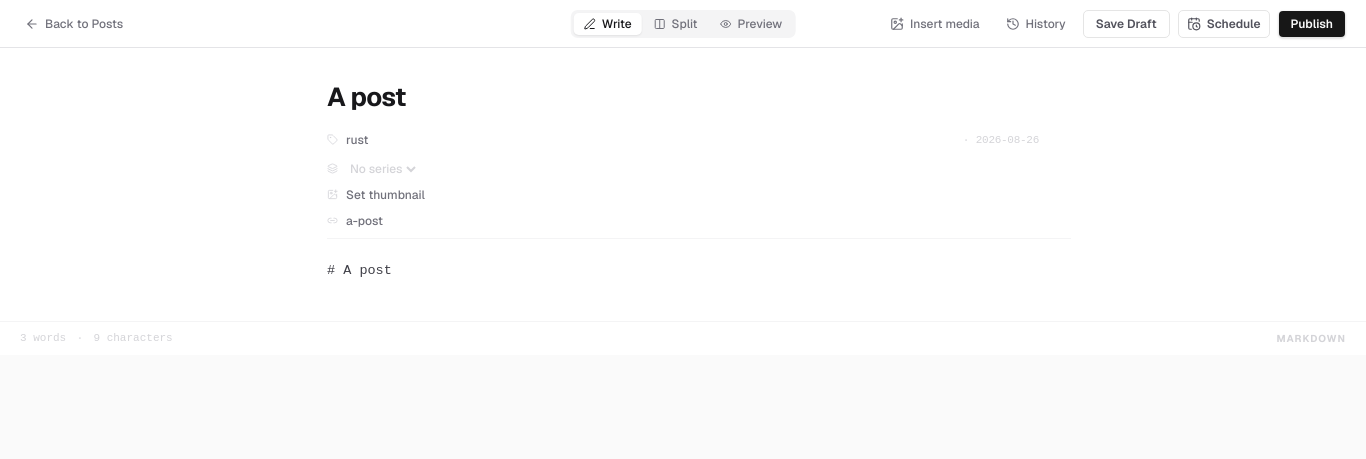
it: the pre-publish check › names the reference that would publish as a dead link
Click the button "Publish" at (1312, 24), box x1=1278 y1=10 x2=1346 y2=38
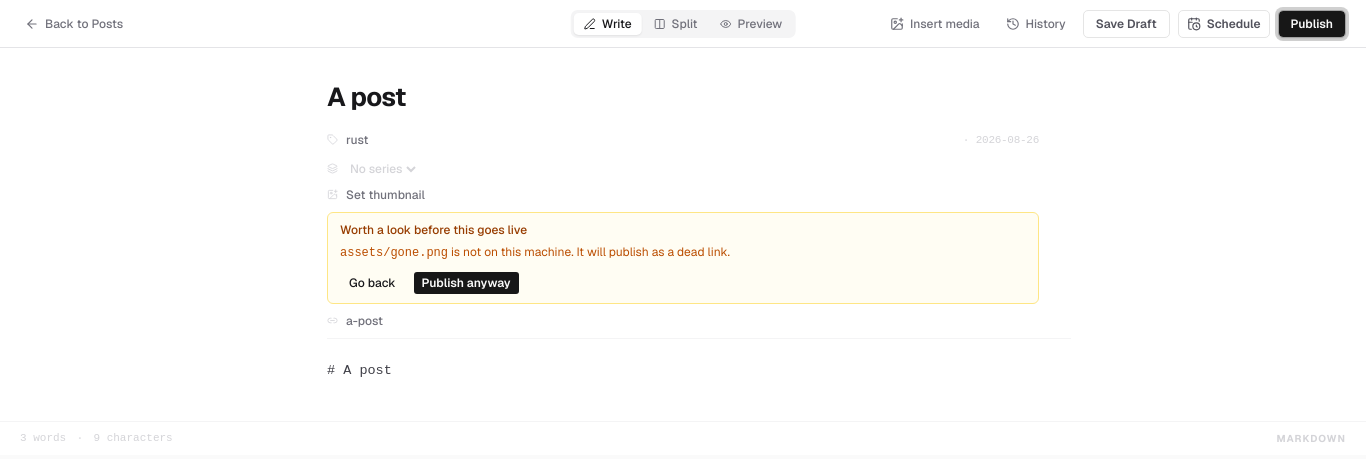
Result: the text "assets/gone.png" is shown at x1=340 y1=246 x2=448 y2=260
